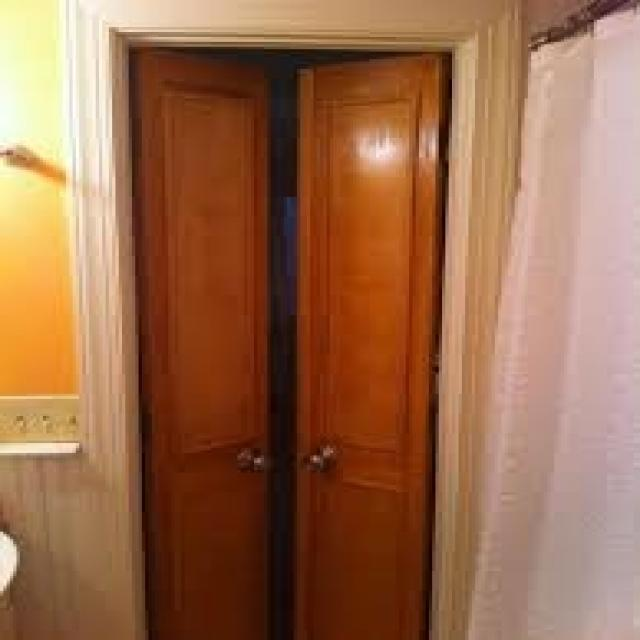Door: (295, 44, 462, 640), (124, 33, 284, 640)
